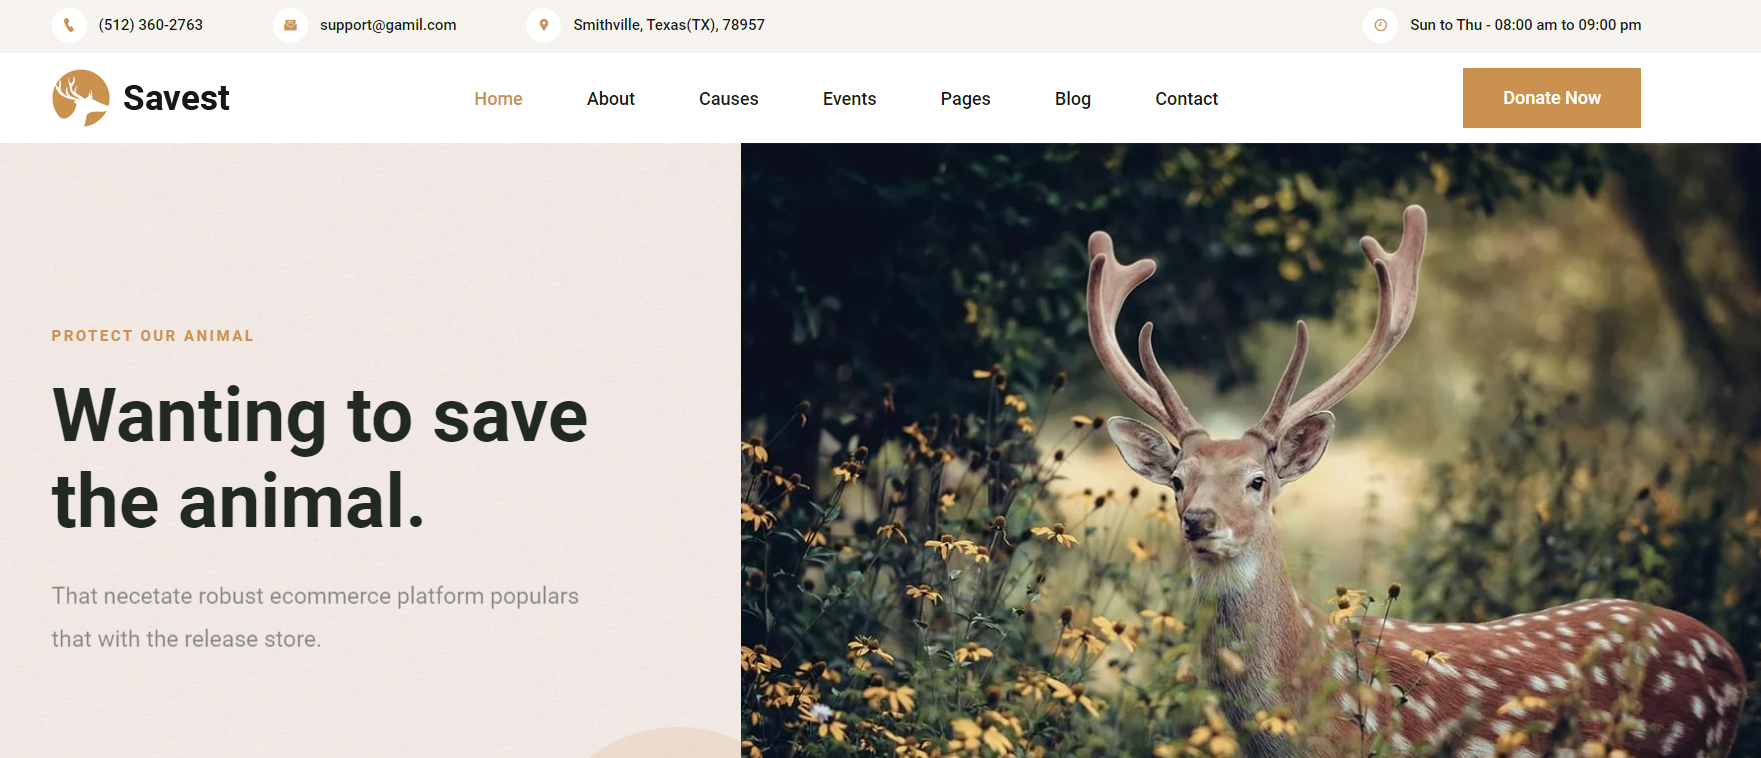menu-bar: (13, 10, 1757, 145)
